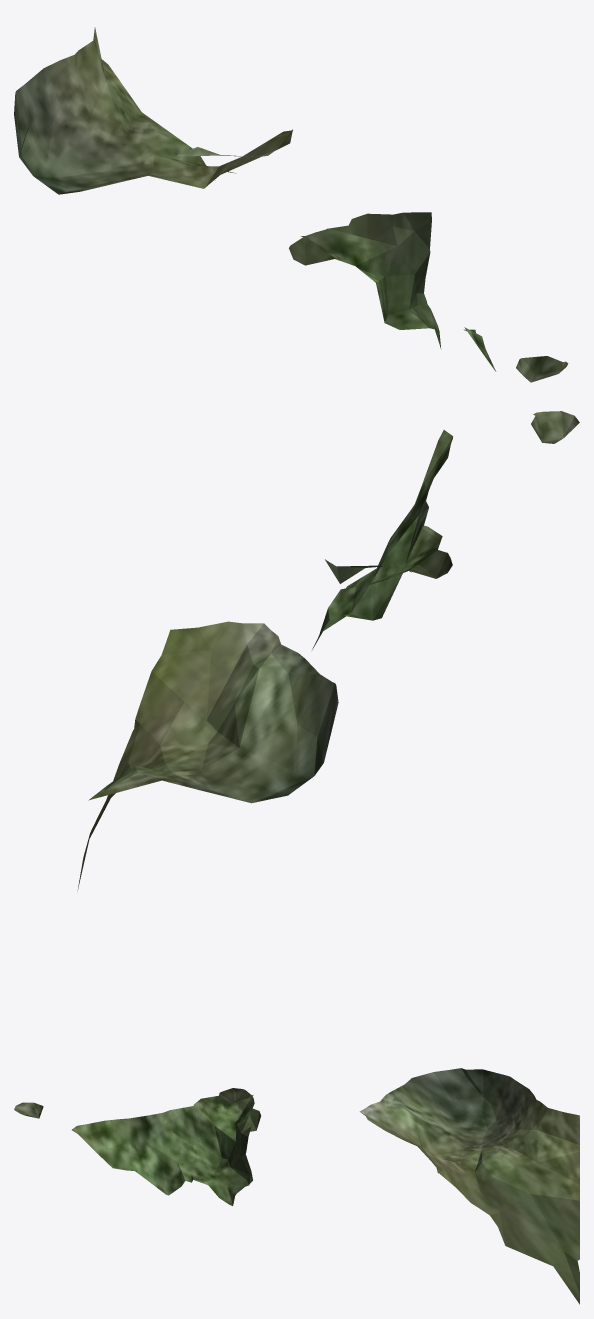
3 renders of one model, top to bottom at view 1: azimuth 30°, elevation 25°; view 2: azimuth 150°, elevation 25°; view 3: azimuth 270°, elevation 25°, orthographic. The views are drawn at different scales.
Size of the model in its own units: 2.77 by 3.64 by 10.67.
1 material, 1 textured.
